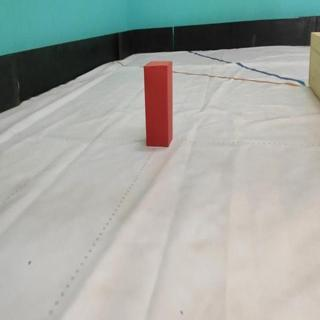redbox: (143, 59, 170, 146)
